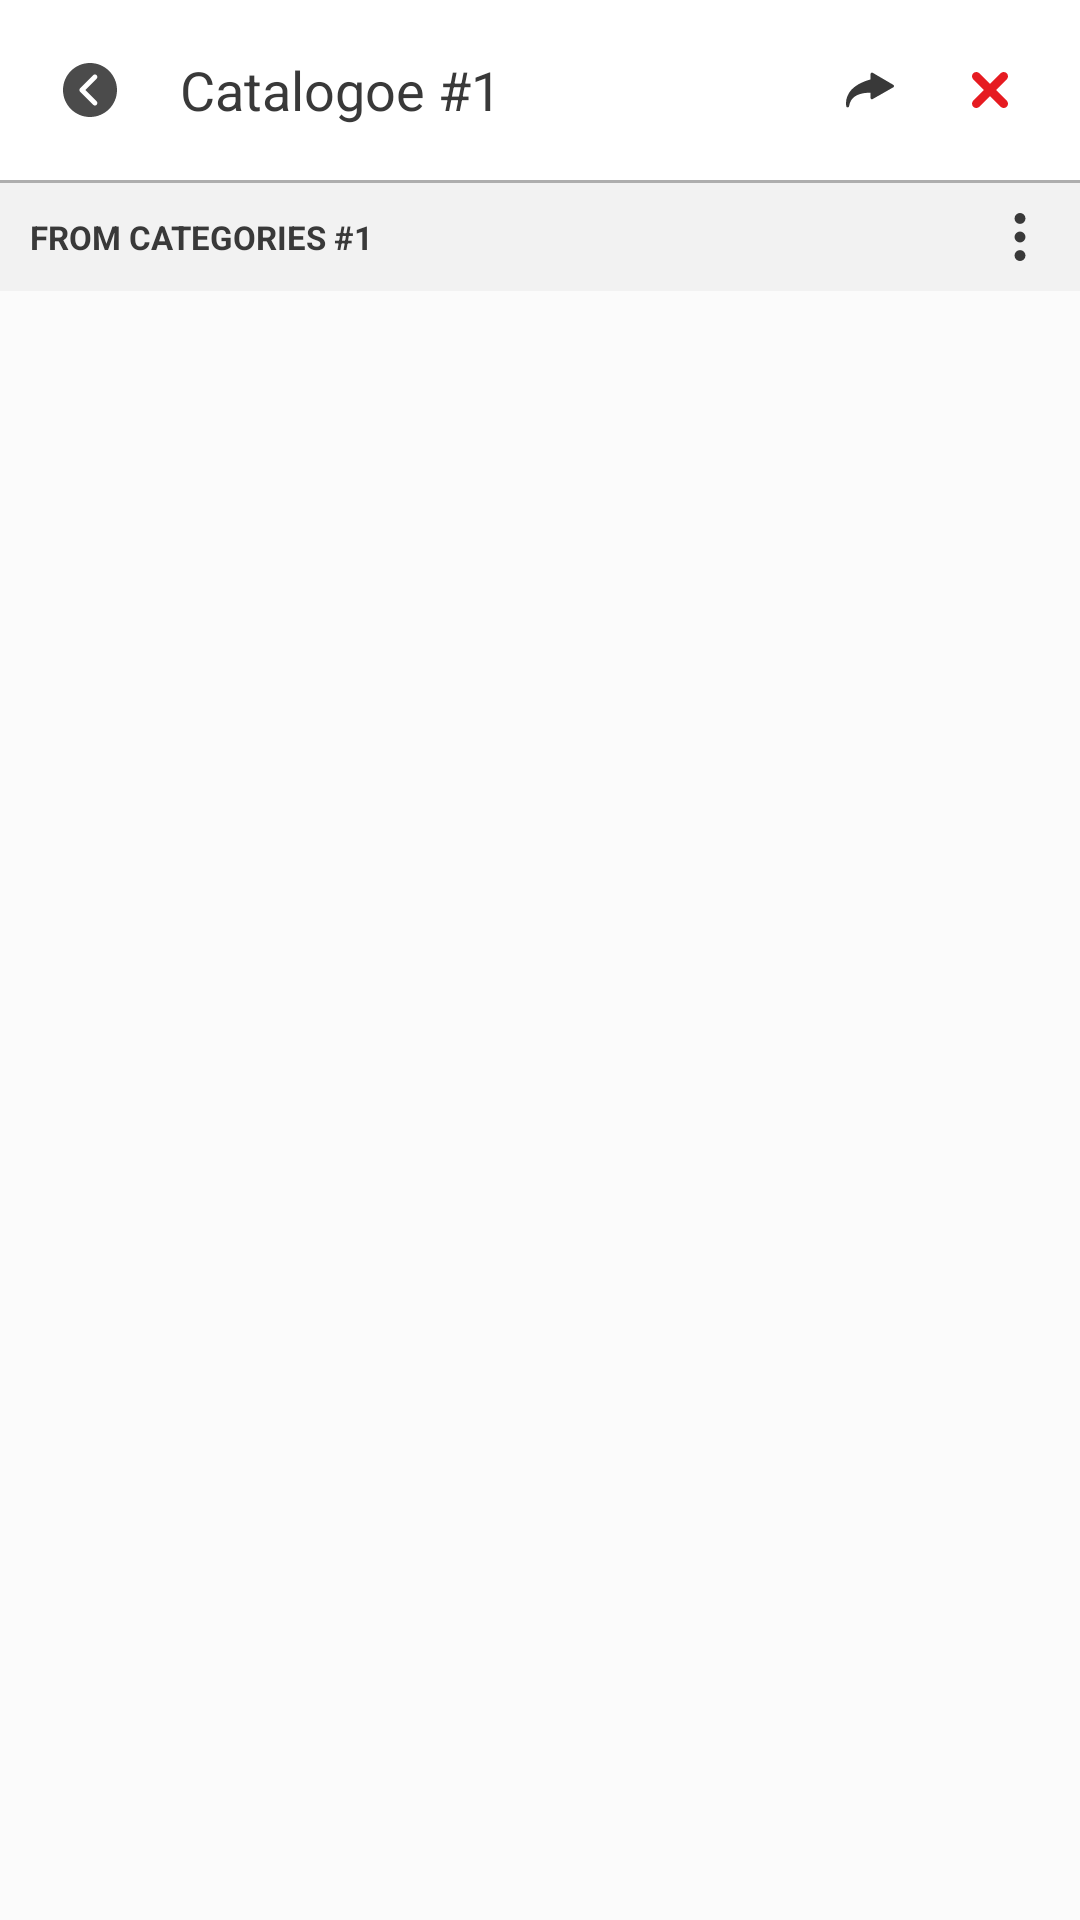

Named icons in this screenshot (1080x1920) and their bounding boxes, (x1, y1, x2, y2):
back circle: (63, 63, 117, 117)
delete: (972, 72, 1008, 108)
right arrow: (846, 72, 894, 108)
